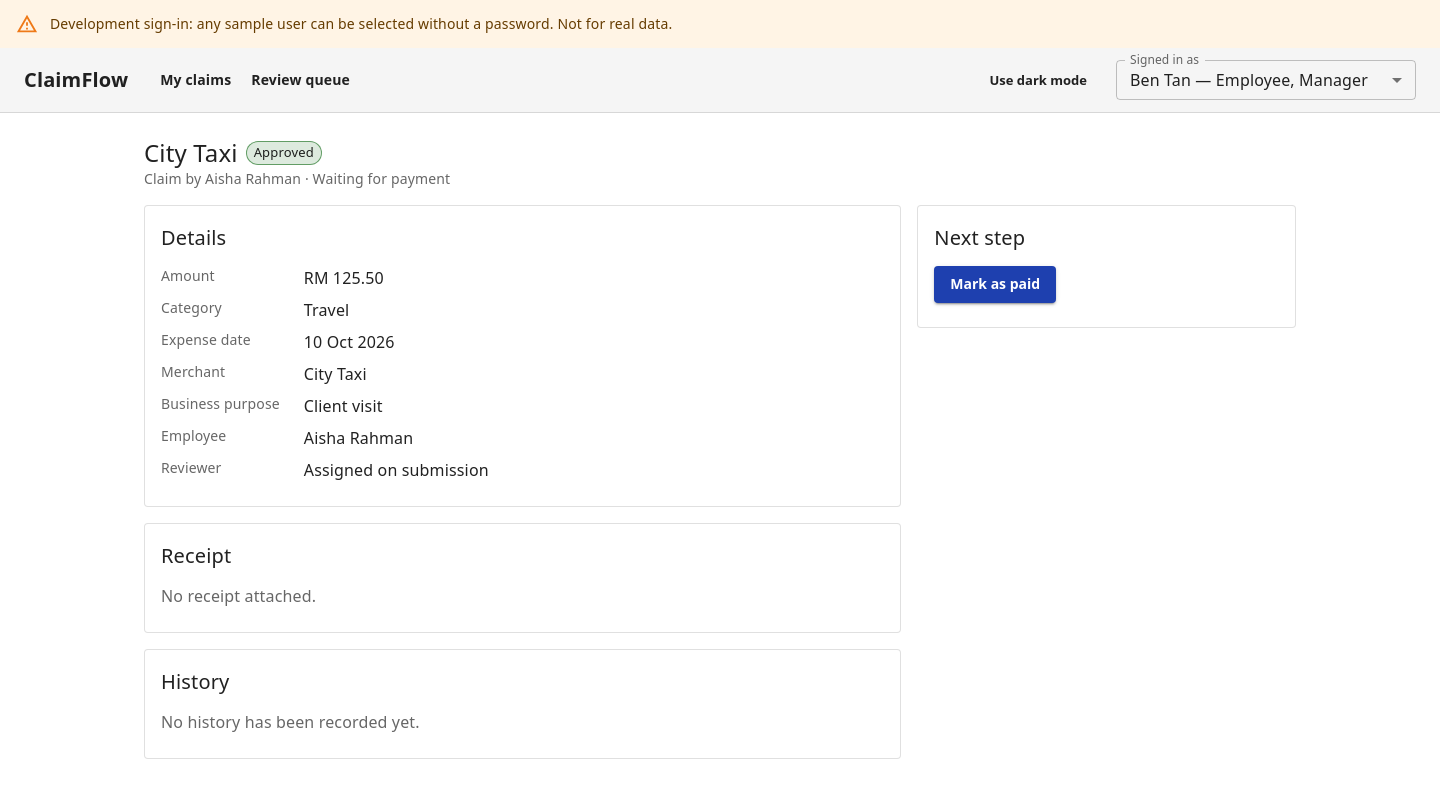
Test case: lifecycle actions › MARK_PAID sends the claim version with no comment, updates the page, and confirms
Click the button "Mark as paid" at x=995, y=284, box [934,266,1056,302]
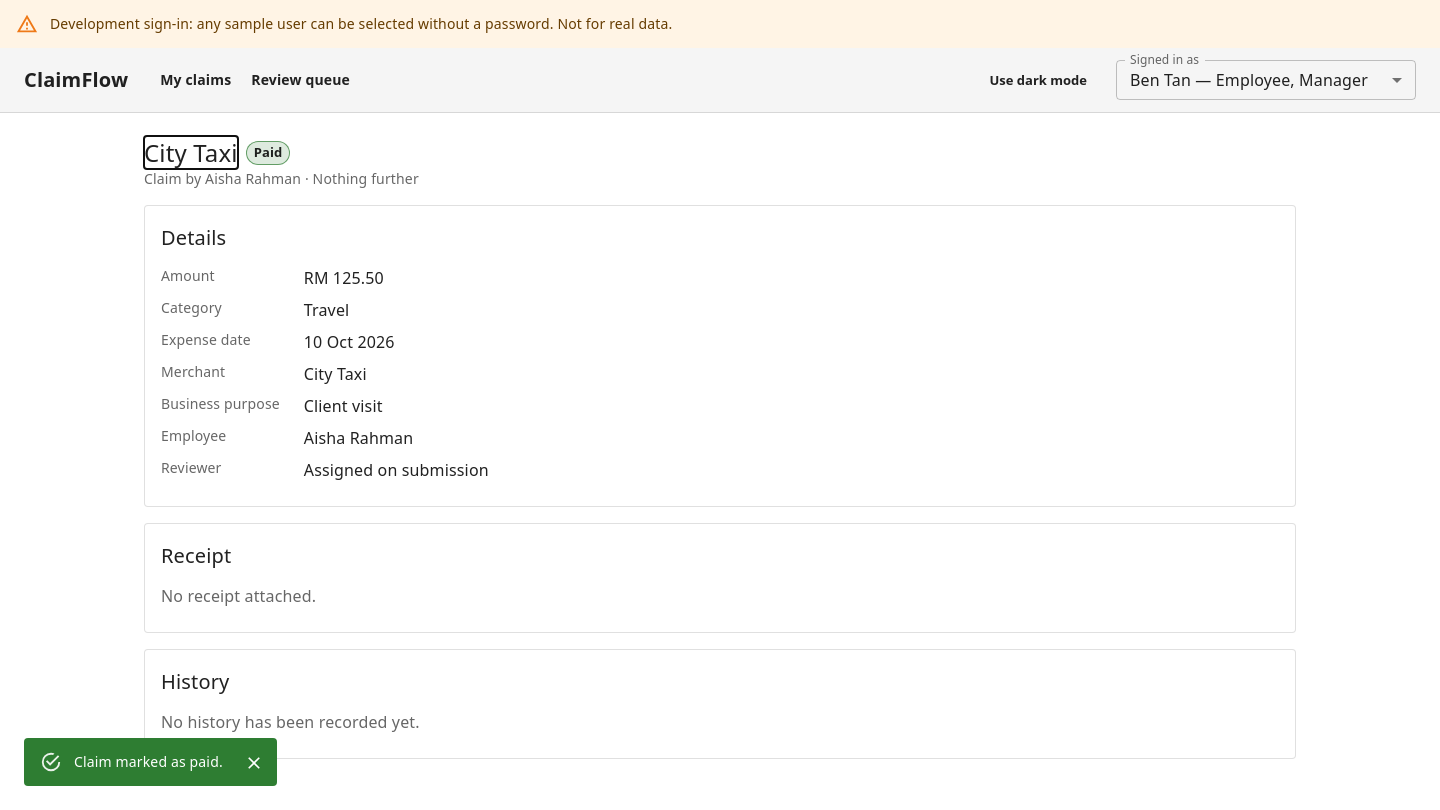
Check: the text "Claim marked as paid." is shown, box [74,752,223,771]
Check: the button "Mark as paid" is gone
